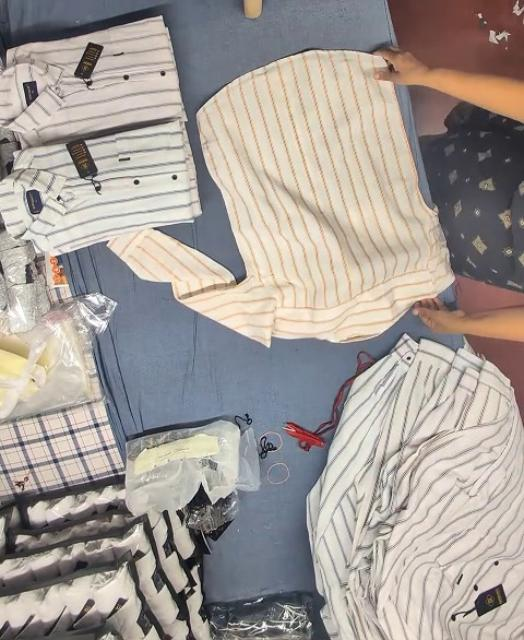new-garment: (109, 50, 452, 345)
